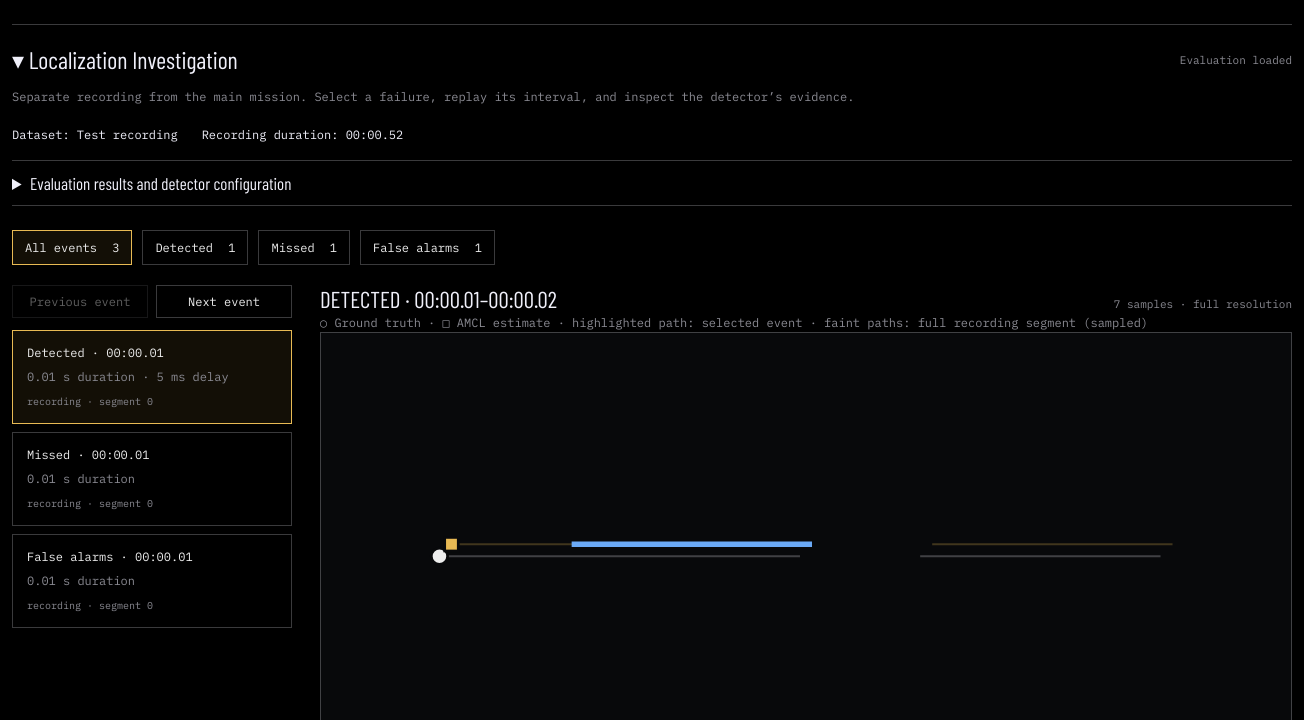
Test: clears stale evidence and exposes an API evaluation conflict
Click the button "Next event". click: (224, 302)
box: [156, 285, 292, 318]
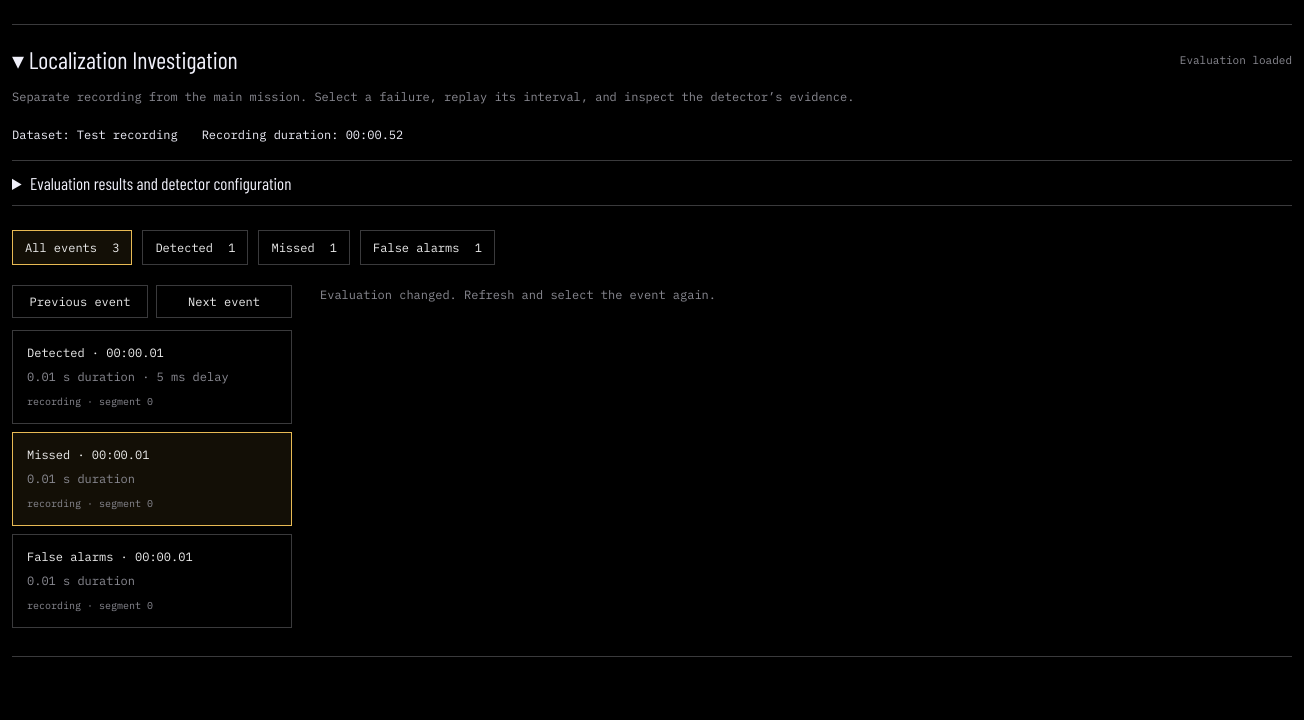
Result: the message shows "Evaluation changed" at [320, 287, 716, 302]
